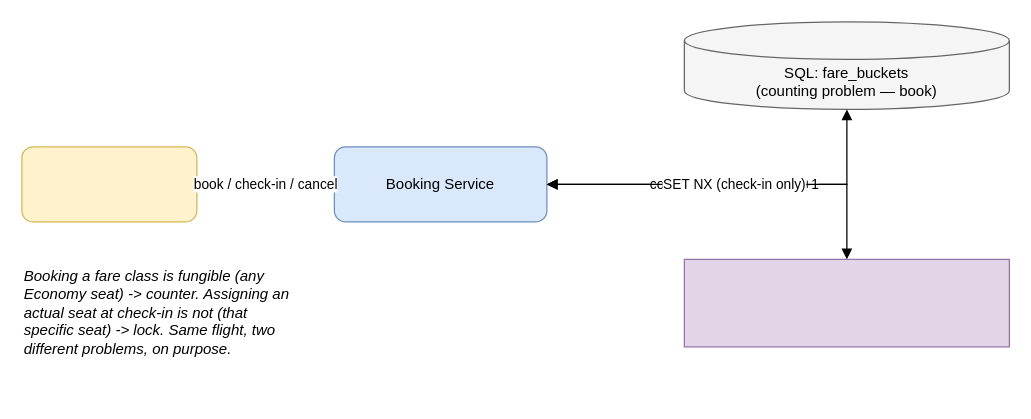
Image size: 1031x419. Some labels were removed from this diagram. Here are the shapes that lost their labels. From the top down, the centre of each, then its label:
At [109,184]: "Client".
At [846,302]: "Redis: seat locks (locking problem — check-in)".
